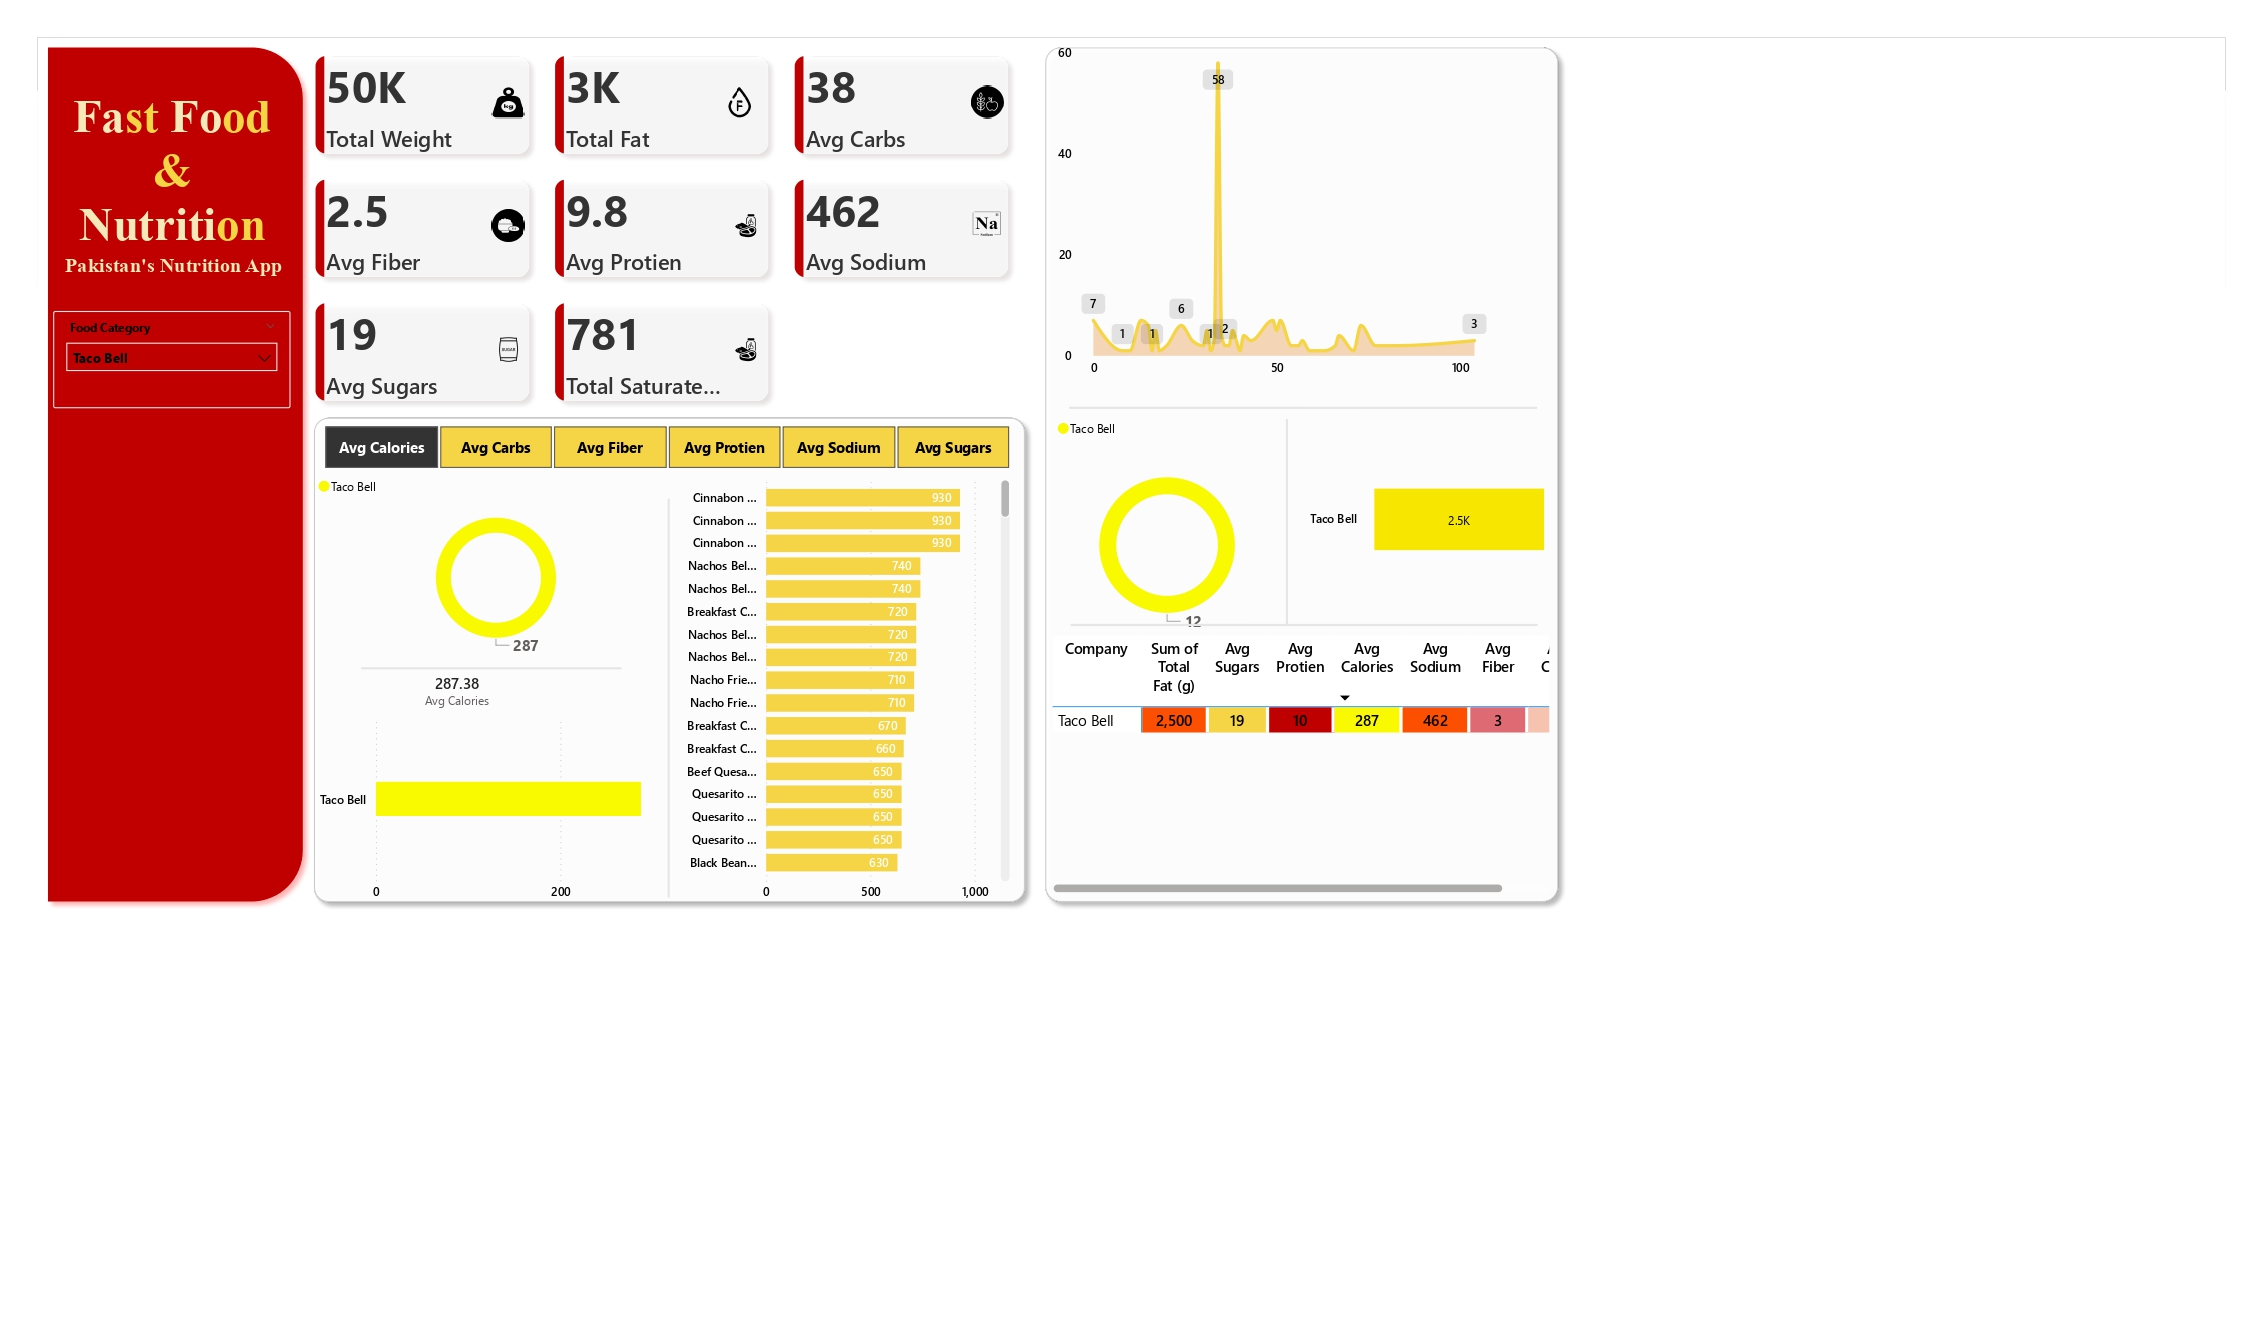

What the dashboard file says about the page in this screenshot:
{"tool":"powerbi","page":{"name":"Page 1","canvas":[1400,800],"ordinal":0},"visuals":[{"type":"shape","box":[0,0,251.7,799.2],"z":0},{"type":"textbox","box":[0,42.3,246.2,169],"z":1000},{"type":"textbox","box":[20.2,192.9,222.3,34.9],"z":2000},{"type":"slicer","fields":{"Values":["FastFoodNutritionMenu_PowerBIReady.Company","FastFoodNutritionMenu_PowerBIReady.Item"]},"box":[14.3,250,217.1,88.6],"z":3000},{"type":"cardVisual","fields":{"Data":["Sum(FastFoodNutritionMenu_PowerBIReady.Weight Watchers Pnts)","Sum(FastFoodNutritionMenu_PowerBIReady.Total Fat (g))","FastFoodNutritionMenu_PowerBIReady.Avg Carbs","FastFoodNutritionMenu_PowerBIReady.Avg Fiber","FastFoodNutritionMenu_PowerBIReady.Avg Protien","FastFoodNutritionMenu_PowerBIReady.Avg Sodium","FastFoodNutritionMenu_PowerBIReady.Avg Sugars","Sum(FastFoodNutritionMenu_PowerBIReady.Saturated Fat (g))"]},"box":[237,0,668.8,350.9],"z":4000},{"type":"shape","box":[242.5,338.1,668.8,461.2],"z":5000},{"type":"donutChart","title":"Avg Calories Content","fields":{"Y":["FastFoodNutritionMenu_PowerBIReady.Avg Calories"],"Category":["FastFoodNutritionMenu_PowerBIReady.Company"]},"box":[252,392,336,178],"z":6000},{"type":"slicer","fields":{"Values":["Parameter.Parameter"]},"box":[236.7,348.3,675,51.7],"z":7000},{"type":"cardVisual","fields":{"Data":["FastFoodNutritionMenu_PowerBIReady.Avg Calories"]},"box":[332.5,564,101,64.3],"z":8000},{"type":"clusteredBarChart","title":"Av","fields":{"Y":["FastFoodNutritionMenu_PowerBIReady.Avg Calories"],"Category":["FastFoodNutritionMenu_PowerBIReady.Company"]},"box":[251.7,610,325.2,189.2],"z":9000},{"type":"shape","box":[295.8,565.9,238.8,22],"z":10000},{"type":"shape","box":[571.4,420.7,11,365.6],"z":11000},{"type":"shape","box":[911.7,0,488.3,800],"z":12000},{"type":"barChart","fields":{"Y":["FastFoodNutritionMenu_PowerBIReady.Avg Calories"],"Category":["FastFoodNutritionMenu_PowerBIReady.Item"]},"box":[576.7,391.7,316.7,408.3],"z":13000},{"type":"lineChart","fields":{"Category":["FastFoodNutritionMenu_PowerBIReady.Carbs (g)"],"Y":["CountNonNull(FastFoodNutritionMenu_PowerBIReady.Company)"]},"box":[927.5,0,455,320],"z":14000},{"type":"shape","box":[942.5,325.2,428.1,25.7],"z":15000},{"type":"donutChart","title":"Avg Calories Content","fields":{"Y":["Sum(FastFoodNutritionMenu_PowerBIReady.Trans Fat (g))"],"Category":["FastFoodNutritionMenu_PowerBIReady.Company"]},"box":[927.1,338.6,211.4,224.3],"z":16000},{"type":"shape","box":[1139.1,349.1,7.3,189.2],"z":17000},{"type":"funnel","fields":{"Y":["Sum(FastFoodNutritionMenu_PowerBIReady.Total Fat (g))"],"Category":["FastFoodNutritionMenu_PowerBIReady.Company"]},"box":[1158.6,338.6,228.6,202.9],"z":18000},{"type":"pivotTable","fields":{"Rows":["FastFoodNutritionMenu_PowerBIReady.Company"],"Values":["Sum(FastFoodNutritionMenu_PowerBIReady.Total Fat (g))","FastFoodNutritionMenu_PowerBIReady.Avg Sugars","FastFoodNutritionMenu_PowerBIReady.Avg Protien","FastFoodNutritionMenu_PowerBIReady.Avg Calories","FastFoodNutritionMenu_PowerBIReady.Avg Sodium","FastFoodNutritionMenu_PowerBIReady.Avg Fiber","FastFoodNutritionMenu_PowerBIReady.Avg Carbs"]},"box":[922.9,541.4,464.3,245.7],"z":19000},{"type":"shape","box":[944.3,524.3,427.1,25.7],"z":20000}]}

Visuals, with their boxes in screenshot pixels (x1, y1, x2, y2):
shape: region(38, 38, 431, 1286)
textbox: region(38, 104, 422, 368)
textbox: region(69, 339, 416, 393)
slicer - FastFoodNutritionMenu_PowerBIReady.Company x FastFoodNutritionMenu_PowerBIReady.Item: region(60, 428, 399, 567)
cardVisual - Sum(FastFoodNutritionMenu_PowerBIReady.Weight Watchers Pnts) x Sum(FastFoodNutritionMenu_PowerBIReady.Total Fat (g)): region(408, 38, 1453, 586)
shape: region(416, 566, 1462, 1286)
"Avg Calories Content" donutChart: region(431, 650, 956, 928)
slicer - Parameter.Parameter: region(407, 582, 1462, 662)
cardVisual - FastFoodNutritionMenu_PowerBIReady.Avg Calories: region(557, 919, 715, 1019)
"Av" clusteredBarChart: region(431, 991, 939, 1286)
shape: region(500, 922, 873, 956)
shape: region(931, 695, 948, 1266)
shape: region(1462, 38, 2225, 1288)
barChart - FastFoodNutritionMenu_PowerBIReady.Avg Calories x FastFoodNutritionMenu_PowerBIReady.Item: region(939, 650, 1434, 1288)
lineChart - FastFoodNutritionMenu_PowerBIReady.Carbs (g) x CountNonNull(FastFoodNutritionMenu_PowerBIReady.Company): region(1487, 38, 2198, 538)
shape: region(1510, 546, 2180, 586)
"Avg Calories Content" donutChart: region(1486, 567, 1817, 917)
shape: region(1818, 583, 1829, 879)
funnel - Sum(FastFoodNutritionMenu_PowerBIReady.Total Fat (g)) x FastFoodNutritionMenu_PowerBIReady.Company: region(1848, 567, 2205, 884)
pivotTable - FastFoodNutritionMenu_PowerBIReady.Company x Sum(FastFoodNutritionMenu_PowerBIReady.Total Fat (g)): region(1480, 883, 2205, 1267)
shape: region(1513, 857, 2181, 897)
